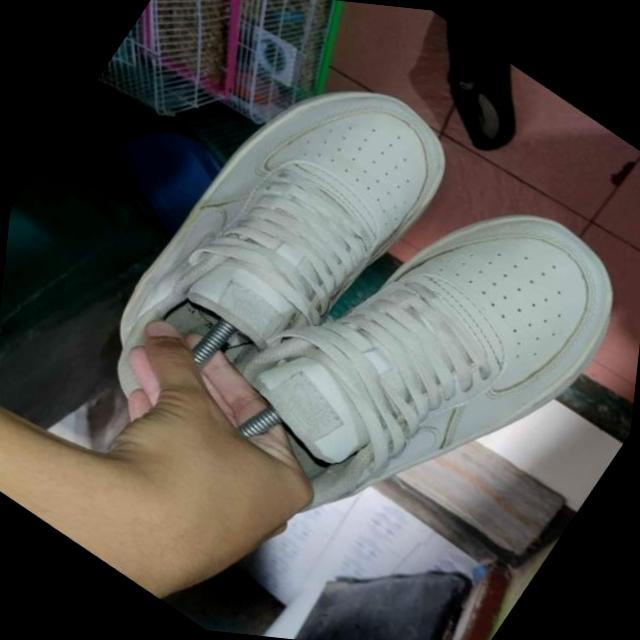nike_fake_airforce: (170, 99, 640, 633), (79, 18, 483, 490)
